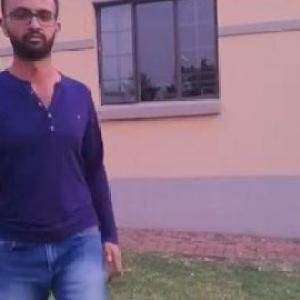follow: (0, 0, 125, 299)
